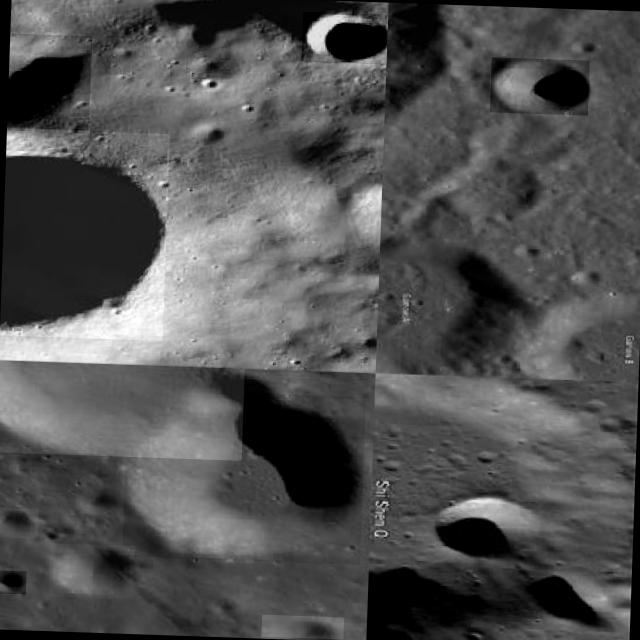crater: (366, 373, 636, 640), (122, 388, 365, 564), (0, 127, 169, 340), (0, 359, 244, 460), (375, 233, 529, 376), (7, 34, 92, 130), (426, 496, 542, 564), (490, 56, 590, 116), (522, 574, 622, 632), (48, 542, 134, 598), (302, 12, 386, 64), (262, 614, 344, 639), (0, 507, 38, 538), (0, 570, 26, 594)
